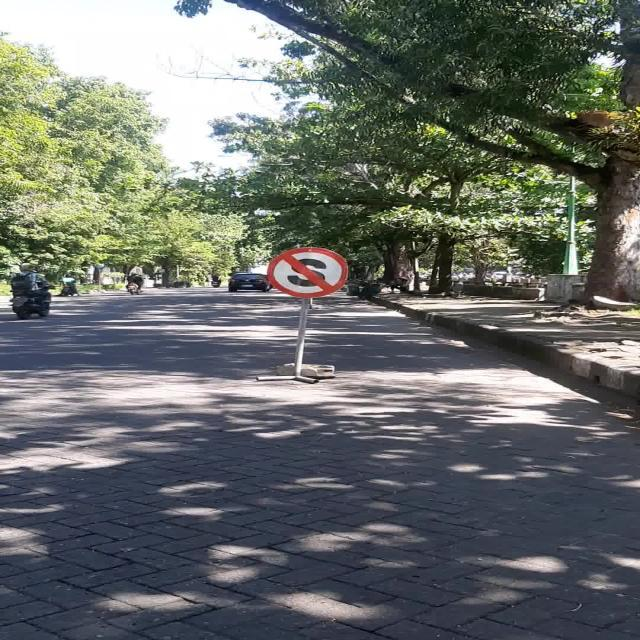Dilarang Berhenti: (266, 246, 348, 298)
